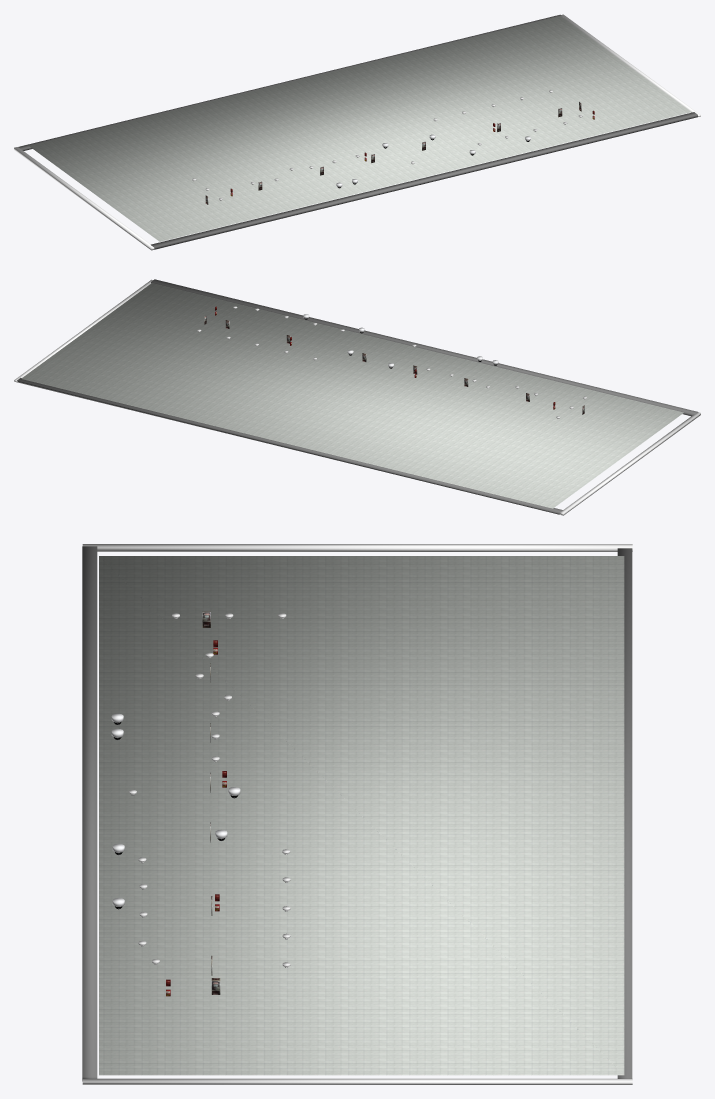
Rendered from L40_1f_mini.gltf.
3 views of the same model, one above another, from view 1: azimuth 30°, elevation 25°; view 2: azimuth 150°, elevation 25°; view 3: azimuth 270°, elevation 25° (orthographic). The views are drawn at different scales.
Visible parts, largest first — view 1: L40_dimian_41f, waiguan_41f_2, waiguan_41f_1, waiguan_41f, waiguan_41f_3; view 2: L40_dimian_41f, waiguan_41f_1, waiguan_41f_2, waiguan_41f, waiguan_41f_3; view 3: L40_dimian_41f, waiguan_41f_2, waiguan_41f_1, waiguan_41f, waiguan_41f_3.
Part boxes in pixels (bbox=[...]): L40_dimian_41f: bbox=[29, 16, 691, 241]; waiguan_41f_2: bbox=[151, 112, 697, 249]; waiguan_41f_1: bbox=[18, 14, 563, 150]; waiguan_41f: bbox=[14, 147, 154, 250]; waiguan_41f_3: bbox=[561, 14, 700, 116]; L40_dimian_41f: bbox=[21, 283, 683, 508]; waiguan_41f_1: bbox=[17, 378, 562, 514]; waiguan_41f_2: bbox=[151, 279, 697, 416]; waiguan_41f: bbox=[559, 412, 700, 515]; waiguan_41f_3: bbox=[14, 279, 152, 382]; L40_dimian_41f: bbox=[99, 556, 624, 1075]; waiguan_41f_2: bbox=[82, 546, 97, 1081]; waiguan_41f_1: bbox=[617, 548, 632, 1078]; waiguan_41f: bbox=[82, 544, 632, 551]; waiguan_41f_3: bbox=[82, 1078, 632, 1084].
Size of the model in its own units: 245 by 5.19 by 106.
13 materials, 9 textured.
